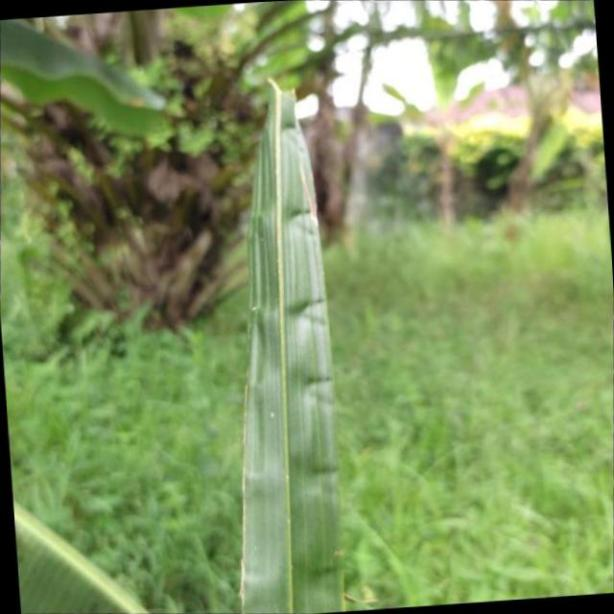Boron: (235, 70, 345, 614)
